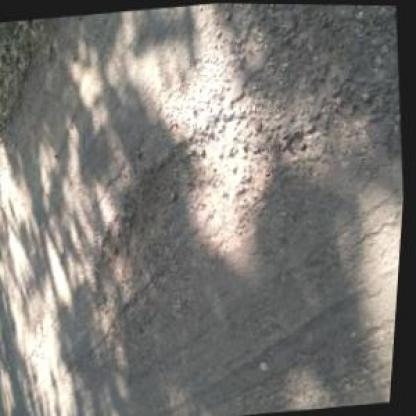pothole: (83, 129, 218, 306)
